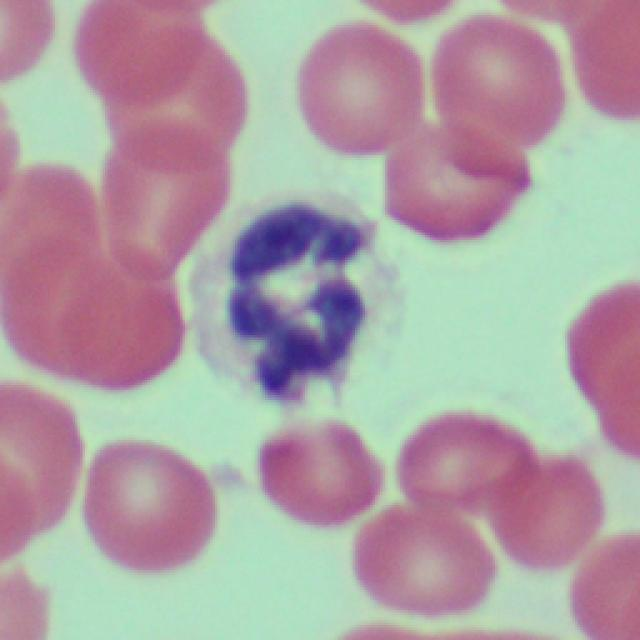RBC: (377, 10, 548, 245), (87, 4, 232, 260), (78, 421, 212, 574), (290, 14, 422, 160), (350, 502, 492, 624), (247, 416, 380, 537), (0, 372, 78, 573), (57, 263, 187, 382), (4, 230, 109, 370), (489, 446, 599, 577), (400, 409, 531, 511), (565, 285, 637, 462), (5, 164, 100, 293), (562, 2, 640, 124), (564, 531, 640, 638), (0, 0, 54, 84)
WBC: (233, 208, 374, 409)
